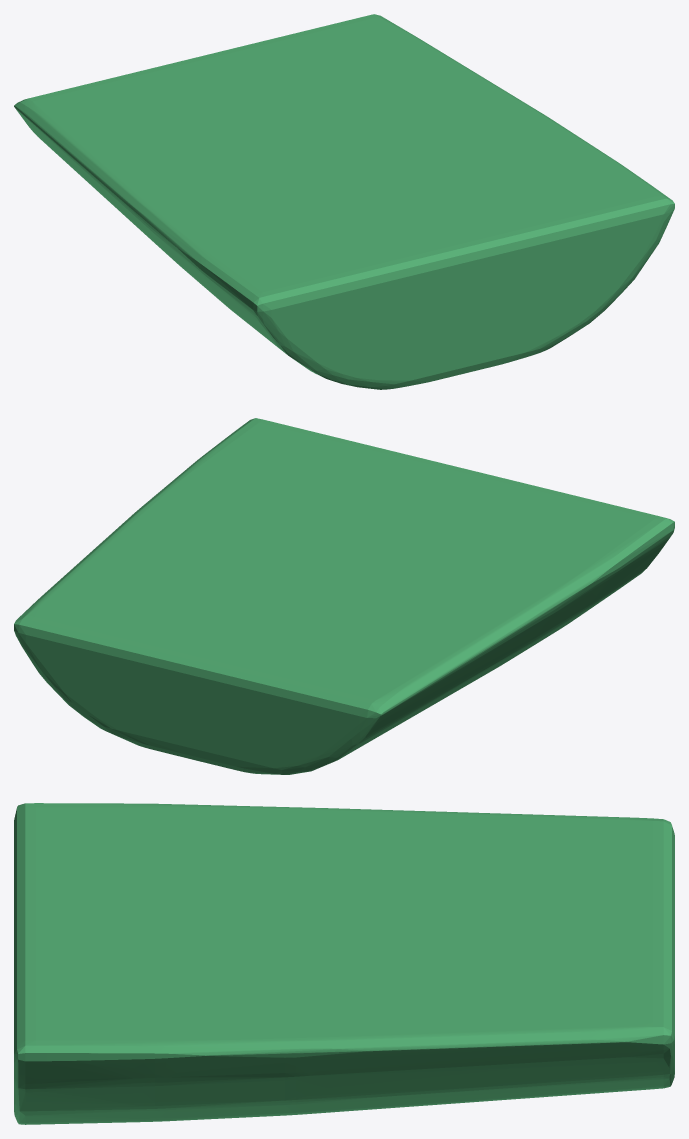
Rendered from left_shoulder_yaw_link_part_3.obj.
3 views of the same model, one above another, from view 1: azimuth 30°, elevation 25°; view 2: azimuth 150°, elevation 25°; view 3: azimuth 270°, elevation 25° (orthographic). The views are drawn at different scales.
Bounding box in the file's own units: 0.056 × 0.0161 × 0.0627.
